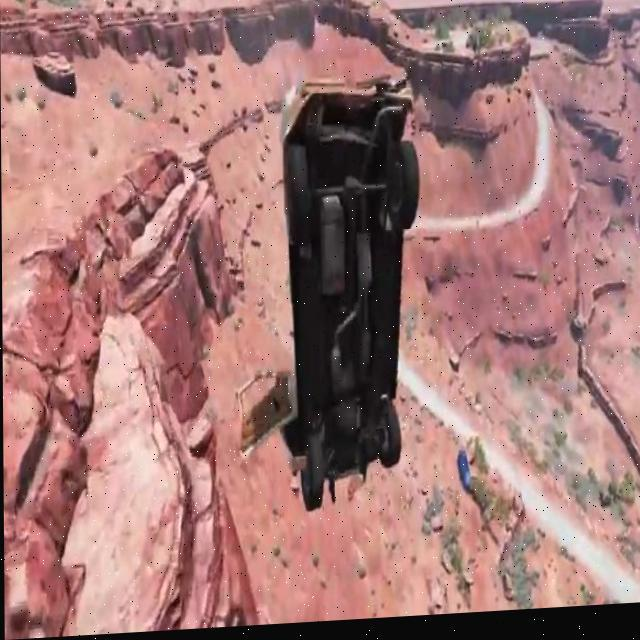single accident: (240, 33, 443, 550)
